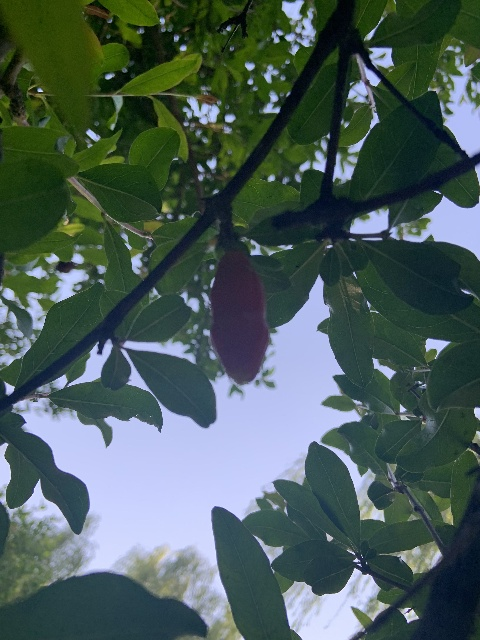bud: (209, 249, 270, 383)
